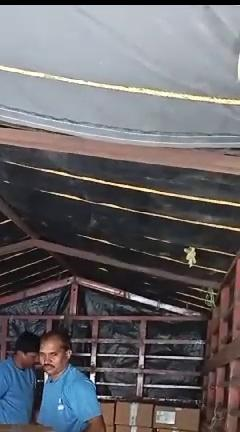box: (0, 424, 53, 432)
